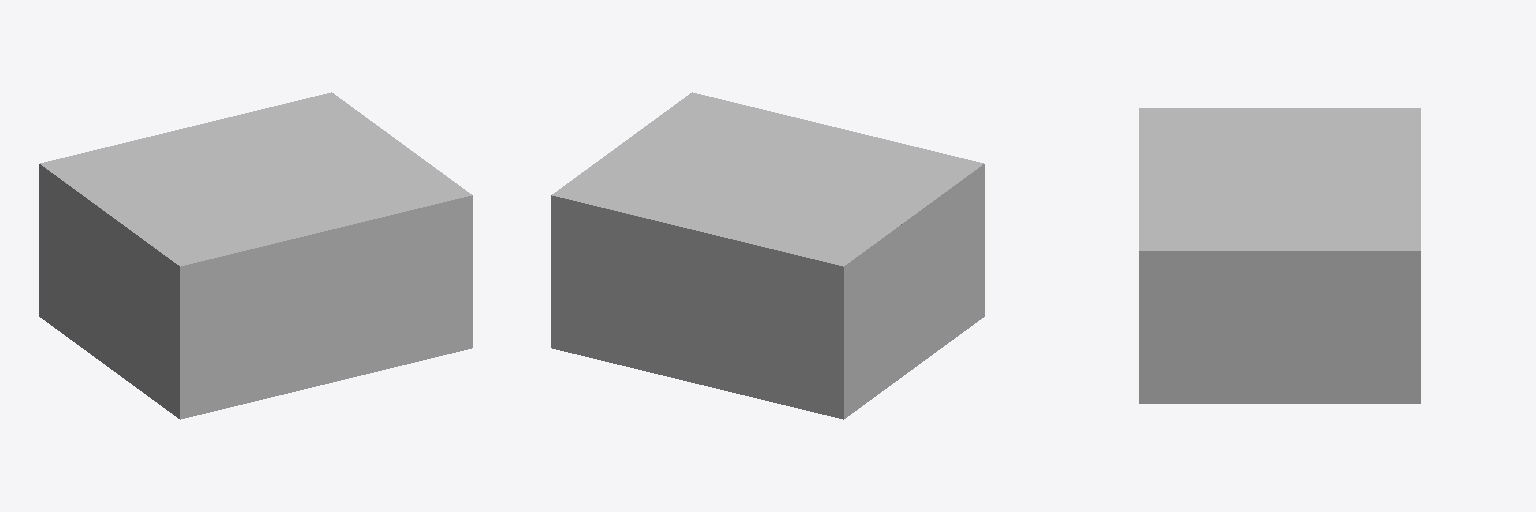
The model's file is Cliffside 5x6x3.obj.
3 renders of one model, left to right at view 1: azimuth 30°, elevation 25°; view 2: azimuth 150°, elevation 25°; view 3: azimuth 270°, elevation 25°, orthographic.
Parts seen in each view (by area): view 1: Cube; view 2: Cube; view 3: Cube.
Boxes of the visible parts, <box> form: Cube: <box>39,92,472,419</box>; Cube: <box>551,92,984,419</box>; Cube: <box>1139,108,1420,403</box>.
Size of the model in its own units: 3 by 1.5 by 2.5.